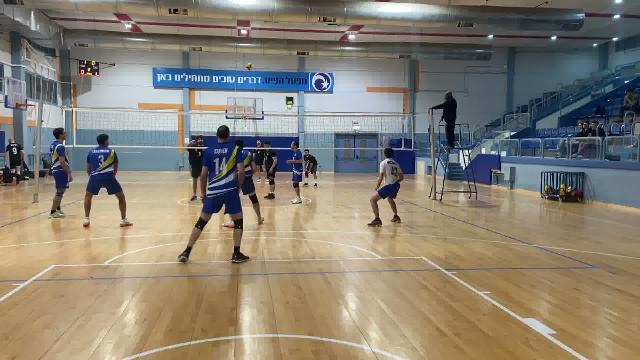ball: (245, 62, 254, 72)
